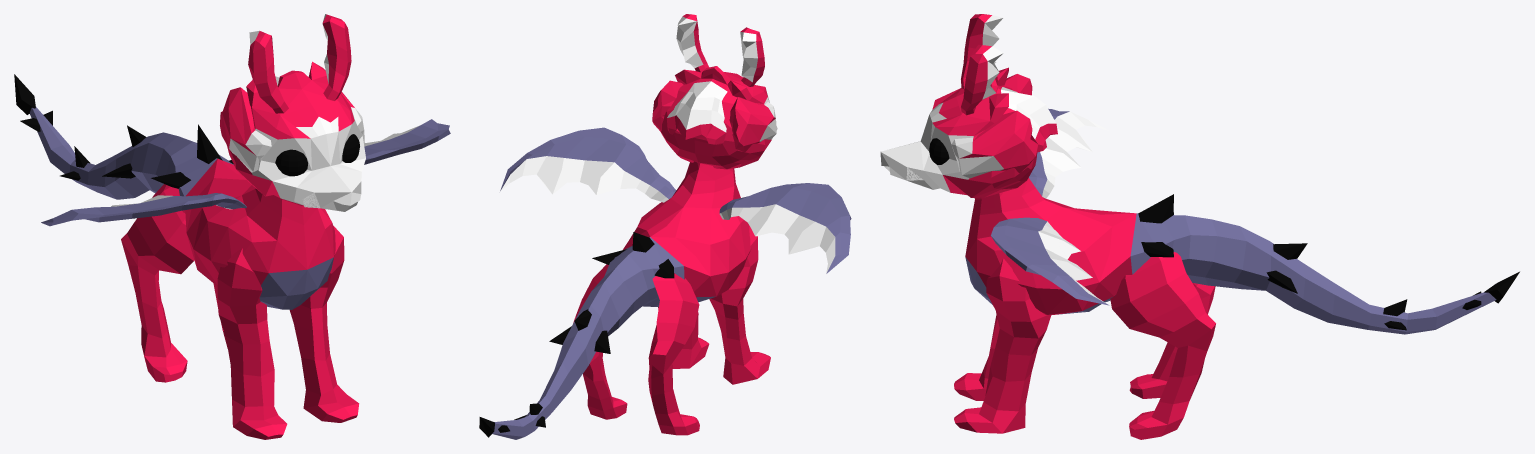
The model's file is ImprovedDragonMedium.fbx.
3 views of the same model, side by side, from view 1: azimuth 30°, elevation 25°; view 2: azimuth 150°, elevation 25°; view 3: azimuth 270°, elevation 25° (orthographic). The views are drawn at different scales.
Parts seen in each view (by area): view 1: Body, Head, RightFrontLeg, RightBackLeg, LeftFrontLeg, RightWing, Headmask, LeftAntenna, RightAntenna, LeftWing, RightEye, Cone (+1 smaller); view 2: Body, LeftWing, RightWing, RightBackLeg, Head, RightFrontLeg, Headmask2, Headmask, LeftBackLeg, RightAntenna, LeftAntenna, LeftFrontLeg; view 3: Body, LeftBackLeg, LeftFrontLeg, Head, LeftWing, Headmask, RightWing, LeftAntenna, RightBackLeg, Headmask2, RightAntenna, RightFrontLeg (+1 smaller).
Boxes of the visible parts, <box> form: Body: <box>29,107,335,309</box>; Head: <box>227,61,365,211</box>; RightFrontLeg: <box>217,248,287,439</box>; RightBackLeg: <box>121,184,194,382</box>; LeftFrontLeg: <box>289,226,359,422</box>; RightWing: <box>41,193,246,226</box>; Headmask: <box>220,87,364,172</box>; LeftAntenna: <box>322,14,351,100</box>; RightAntenna: <box>248,30,288,113</box>; LeftWing: <box>364,119,450,164</box>; RightEye: <box>275,149,307,176</box>; Cone: <box>197,124,222,163</box>; Body: <box>492,161,751,439</box>; LeftWing: <box>500,127,676,202</box>; RightWing: <box>719,183,851,273</box>; RightBackLeg: <box>648,273,699,435</box>; Head: <box>660,66,777,169</box>; RightFrontLeg: <box>709,226,770,384</box>; Headmask2: <box>667,81,727,144</box>; Headmask: <box>652,80,776,152</box>; LeftBackLeg: <box>573,264,627,419</box>; RightAntenna: <box>740,27,764,86</box>; LeftAntenna: <box>676,14,708,72</box>; LeftFrontLeg: <box>658,307,709,368</box>; Body: <box>965,178,1496,334</box>; LeftBackLeg: <box>1110,252,1215,439</box>; LeftFrontLeg: <box>954,258,1051,433</box>; Head: <box>880,67,1037,197</box>; LeftWing: <box>991,217,1109,305</box>; Headmask: <box>951,74,1038,178</box>; RightWing: <box>1029,108,1108,198</box>; LeftAntenna: <box>961,44,1003,115</box>; RightBackLeg: <box>1129,283,1215,398</box>; Headmask2: <box>1001,87,1057,152</box>; RightAntenna: <box>961,14,1003,88</box>; RightFrontLeg: <box>954,314,999,400</box>.
Size of the model in its own units: 1022 by 989 by 1493.
